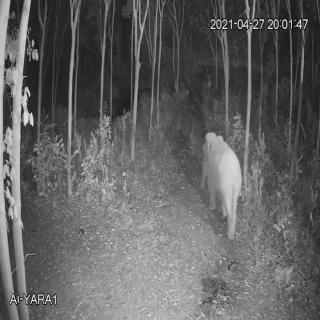Elephant: (196, 120, 243, 254)
